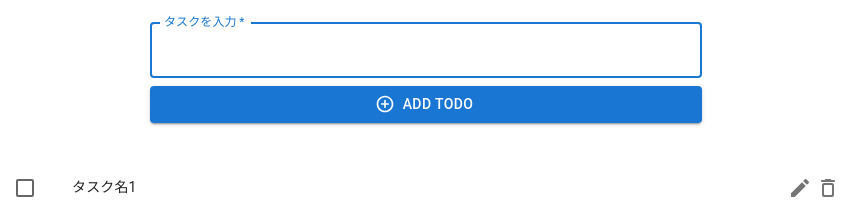
Test: <TodoList /> › タスクの削除
The image size is (865, 224).
Expected: the text "タスク名1" is shown, x1=72 y1=180 x2=137 y2=196
Click the button named "delete": point(828, 188) x1=808 y1=168 x2=848 y2=208
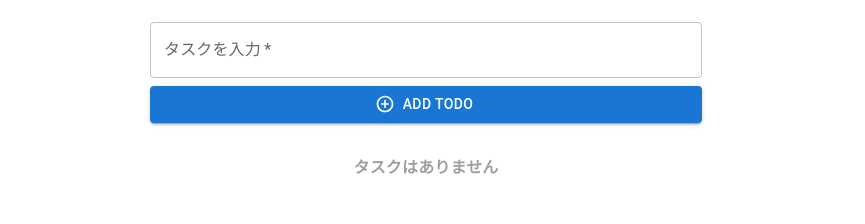
Now the text "タスクはありません" is shown, box x1=354 y1=156 x2=498 y2=176
